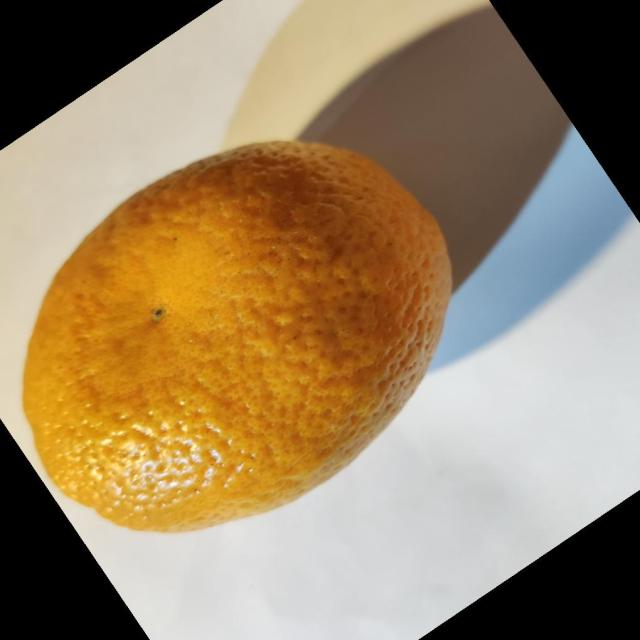fresh orange: (21, 138, 453, 533)
